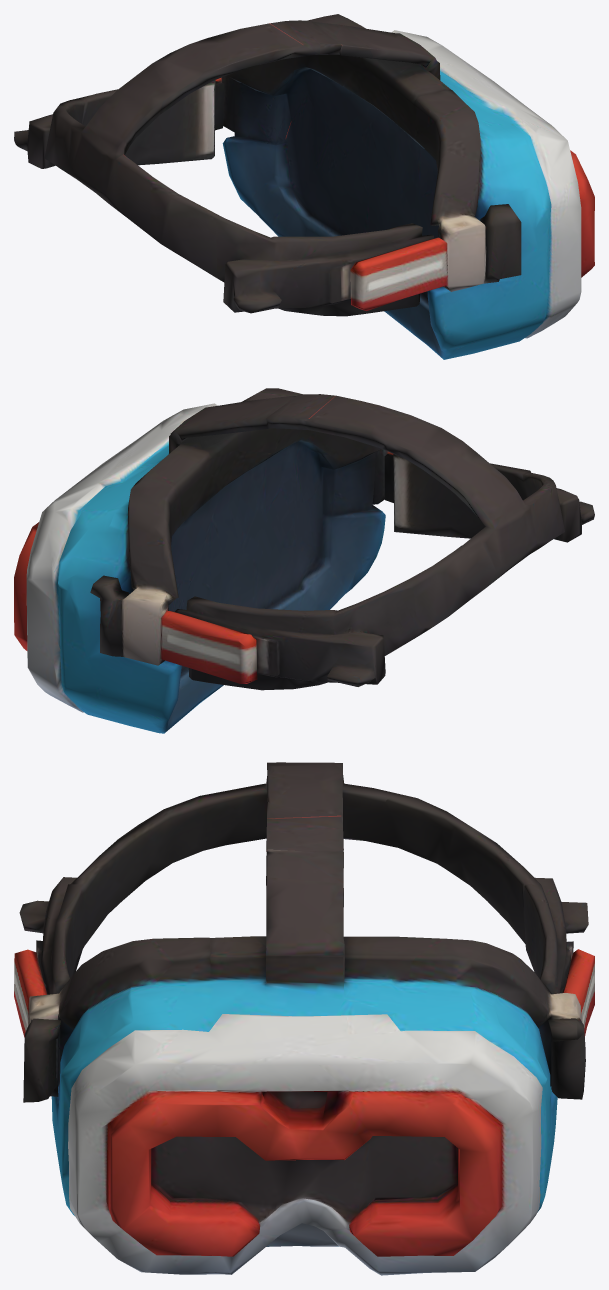
File: vr-headset.glb
3 renders of one model, top to bottom at view 1: azimuth 30°, elevation 25°; view 2: azimuth 150°, elevation 25°; view 3: azimuth 270°, elevation 25°, orthographic. The views are drawn at different scales.
Parts seen in each view (by area): view 1: tripo_node_1dcf8e38-416a-4aec-912d-46a741438c10; view 2: tripo_node_1dcf8e38-416a-4aec-912d-46a741438c10; view 3: tripo_node_1dcf8e38-416a-4aec-912d-46a741438c10.
Boxes of the visible parts, <box> form: tripo_node_1dcf8e38-416a-4aec-912d-46a741438c10: <box>14,14,594,359</box>; tripo_node_1dcf8e38-416a-4aec-912d-46a741438c10: <box>14,388,594,733</box>; tripo_node_1dcf8e38-416a-4aec-912d-46a741438c10: <box>14,762,594,1275</box>.
Bounding box in the file's own units: 1 × 0.6657 × 0.9886.
1 material, 1 textured.
